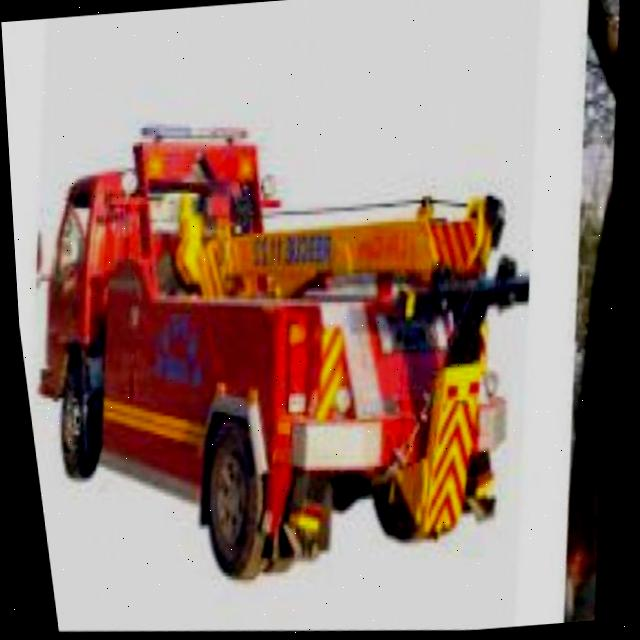emergency: (5, 95, 560, 594)
